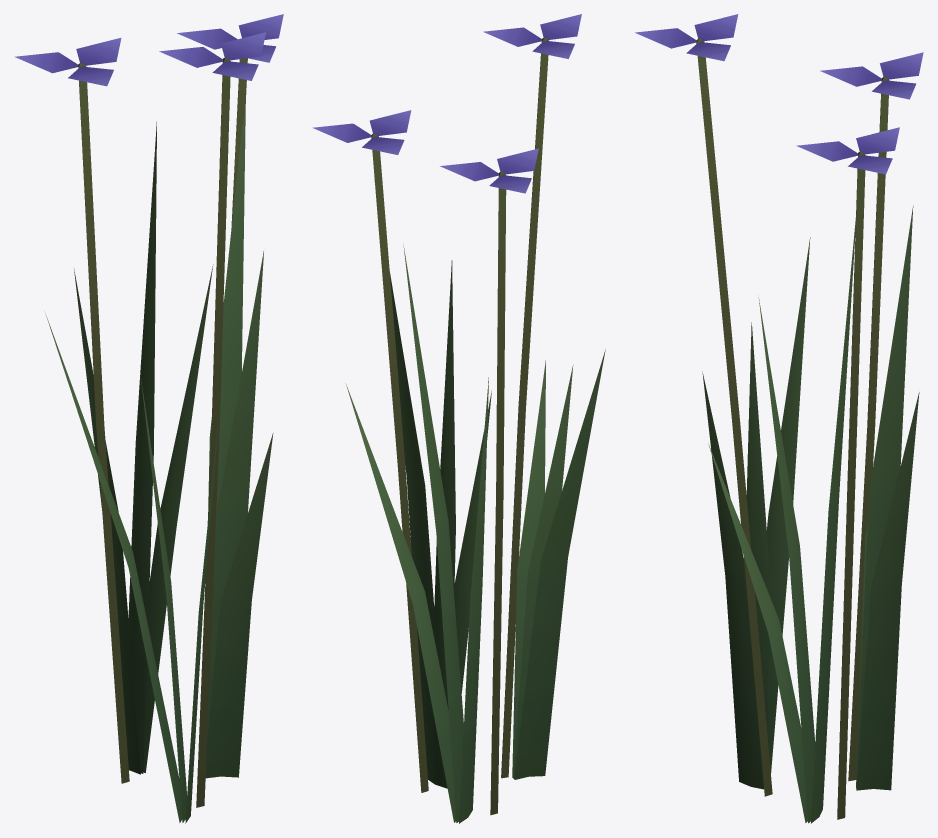
The model's file is iris-water.lod1.glb.
3 views of the same model, side by side, from view 1: azimuth 30°, elevation 25°; view 2: azimuth 150°, elevation 25°; view 3: azimuth 270°, elevation 25° (orthographic). The views are drawn at different scales.
Visible parts, largest first — view 1: iris_water_mesh; view 2: iris_water_mesh; view 3: iris_water_mesh.
Part boxes in pixels (x1,y1,x2,y2): iris_water_mesh: (14,14,283,823); iris_water_mesh: (312,14,605,823); iris_water_mesh: (635,14,923,823).
Bounding box in the file's own units: 0.3567 × 0.9534 × 0.3311.
1 material, 1 textured.
